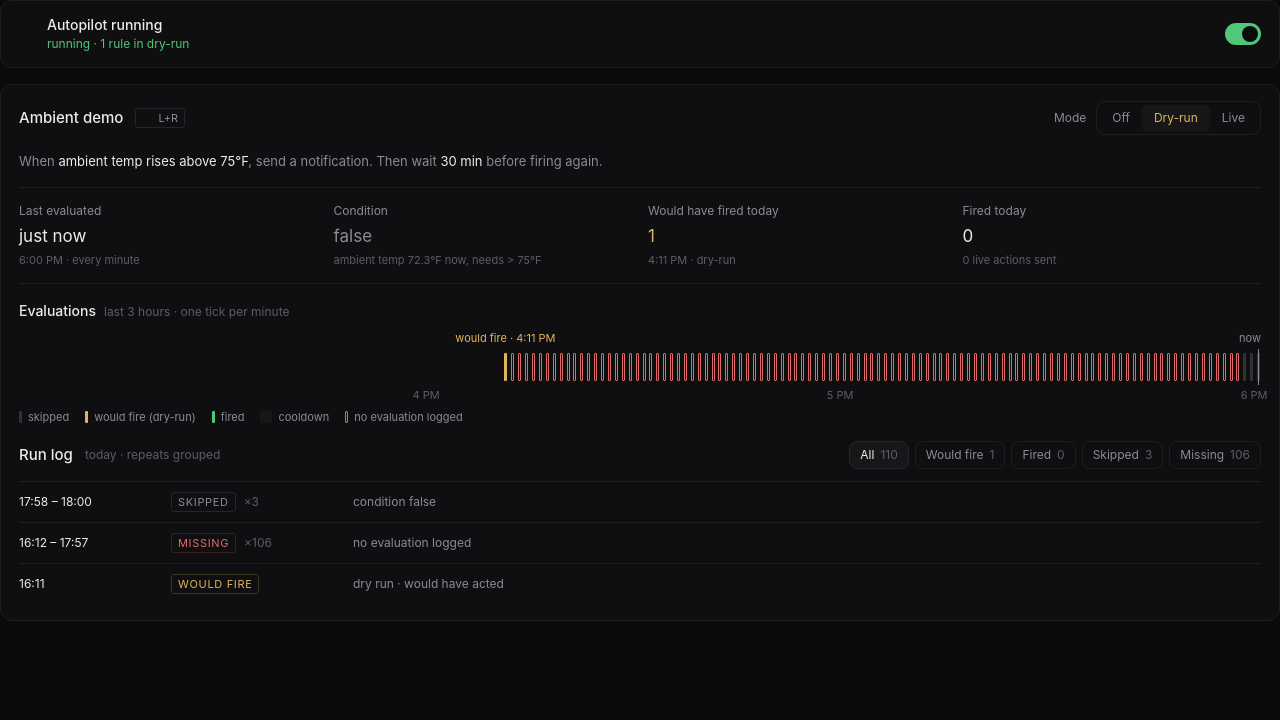
Test: StatusPanel diagnostics card › groups repeats in the run log and filters by outcome
Expected: the text "17:58 – 18:00" is shown, [19,494,92,509]
Expected: the text "×3" is shown, [244,493,259,511]
Click the button "Would fire 1" at (960, 455), box [915,441,1005,469]
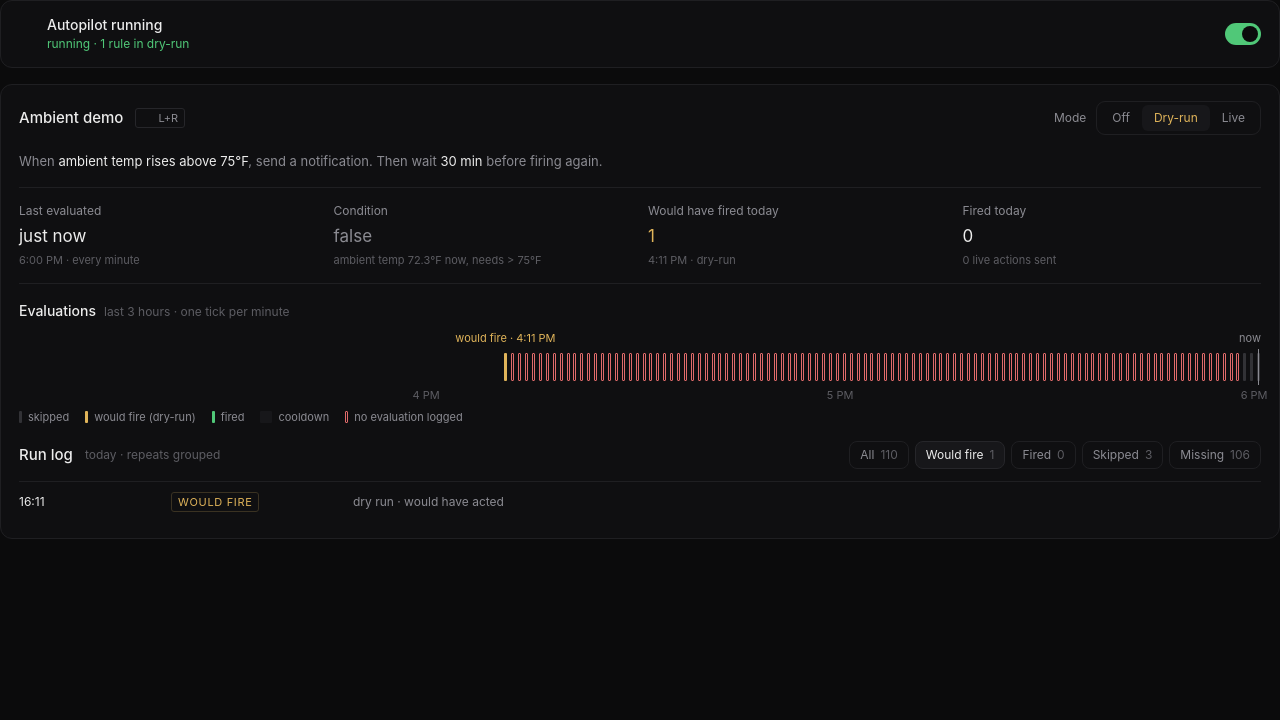
Expected: the text "WOULD FIRE" is shown, [171,492,259,512]
Now the text "×3" is gone
